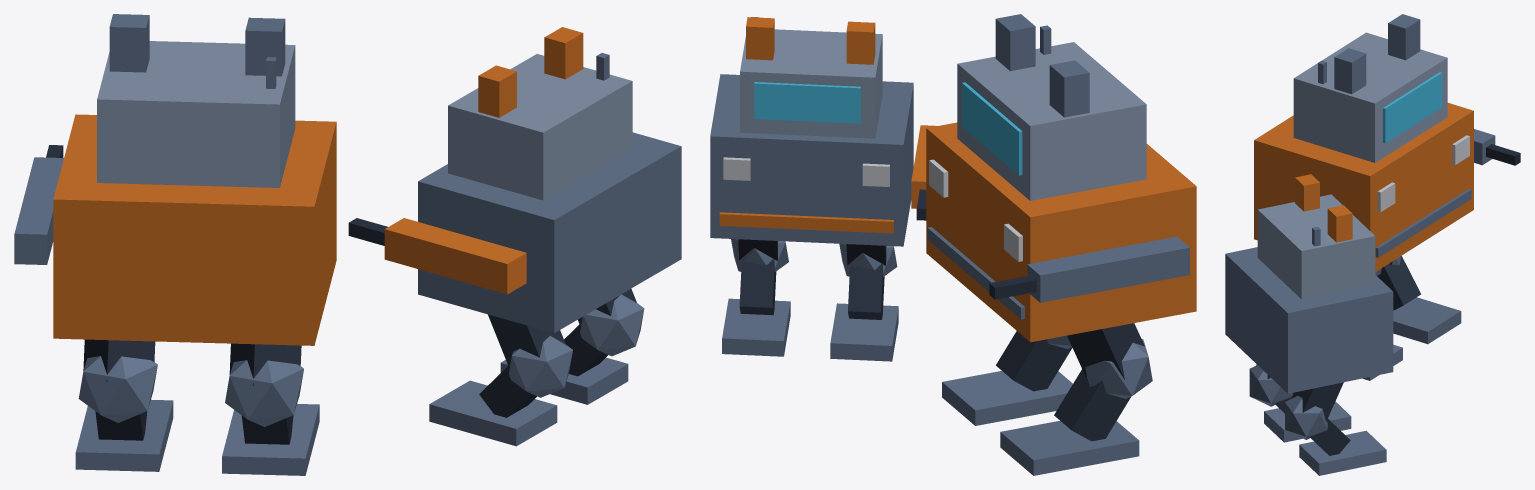
Rendered from Decor_MechaHangar_Walkers.fbx.
3 views of the same model, side by side, from view 1: azimuth 30°, elevation 25°; view 2: azimuth 150°, elevation 25°; view 3: azimuth 270°, elevation 25° (orthographic). The views are drawn at different scales.
Parts seen in each view (by area): view 1: Walkers_Body; view 2: Walkers_Body; view 3: Walkers_Body.
Boxes of the visible parts, box(x1,y1,x2,y2) form: Walkers_Body: box(14, 14, 681, 475); Walkers_Body: box(710, 14, 1196, 475); Walkers_Body: box(1225, 14, 1520, 475).
Bounding box in the file's own units: 14.1 × 9.6 × 8.52.
